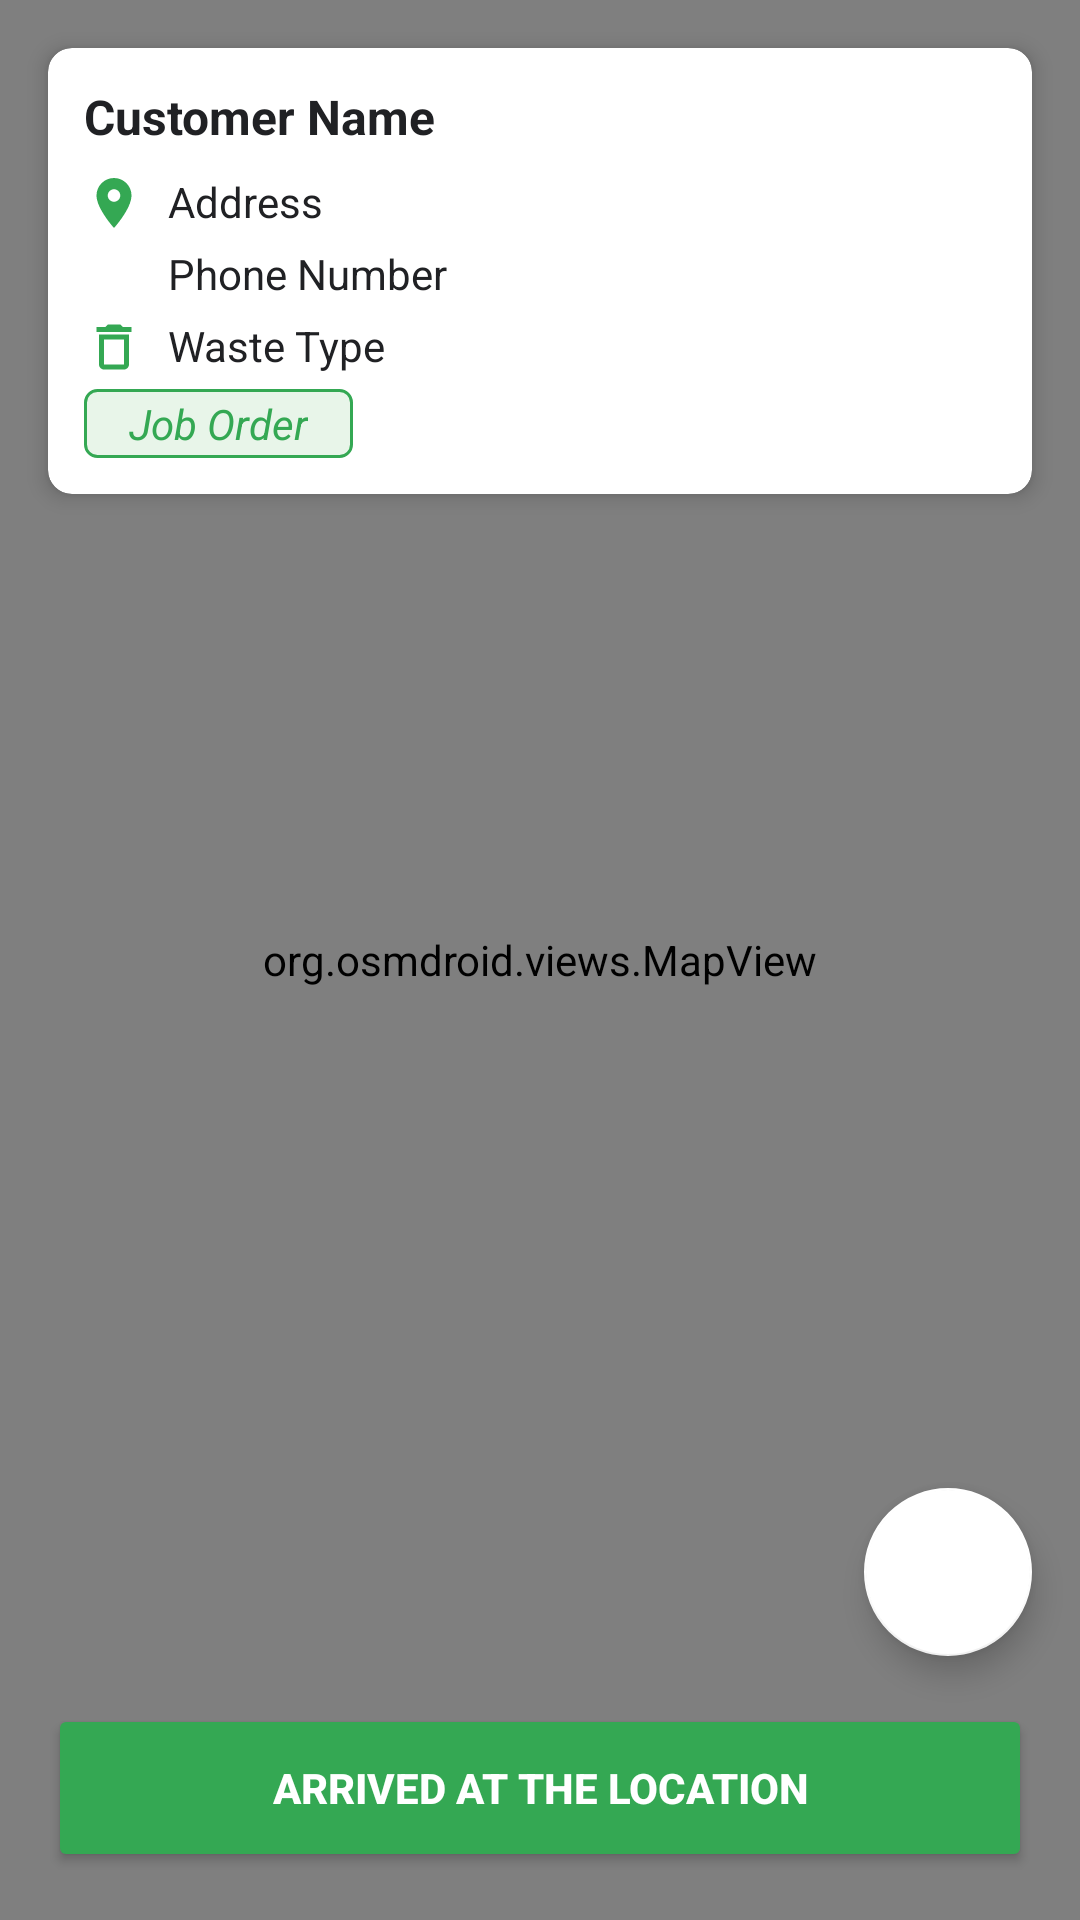

Screen size 1080x1920. Icon name, then its box in pixels as (x1, y1, x2, y2):
location: (96, 178, 132, 228)
